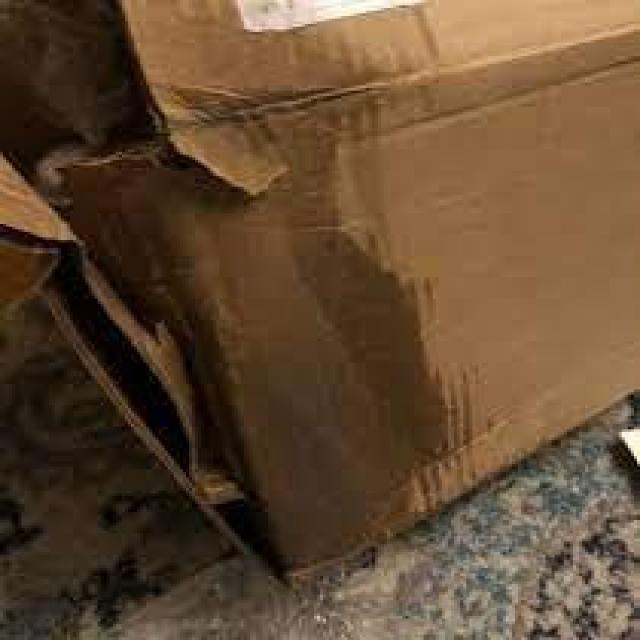wet: (40, 107, 570, 552)
